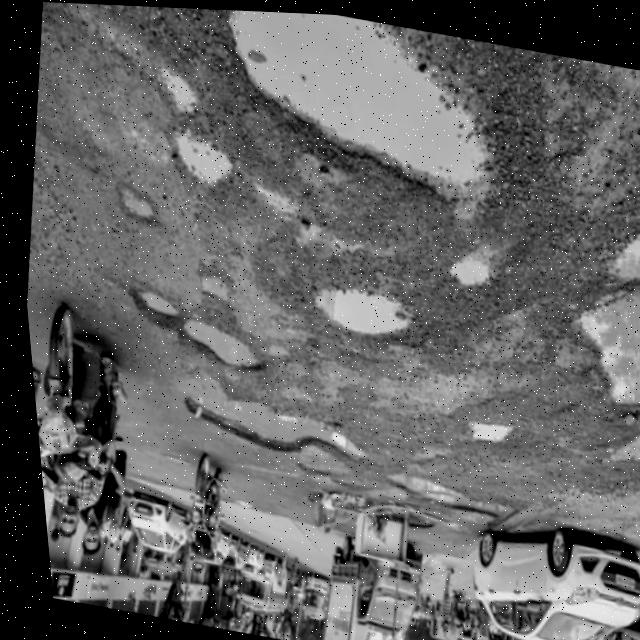Pothole: (191, 7, 526, 221), (530, 51, 640, 412), (145, 371, 382, 494), (287, 267, 428, 372), (344, 444, 506, 526), (158, 296, 283, 389), (159, 116, 246, 196), (141, 60, 206, 133), (440, 234, 501, 298), (123, 283, 189, 335), (98, 173, 159, 229), (461, 403, 517, 451), (185, 272, 233, 315)
